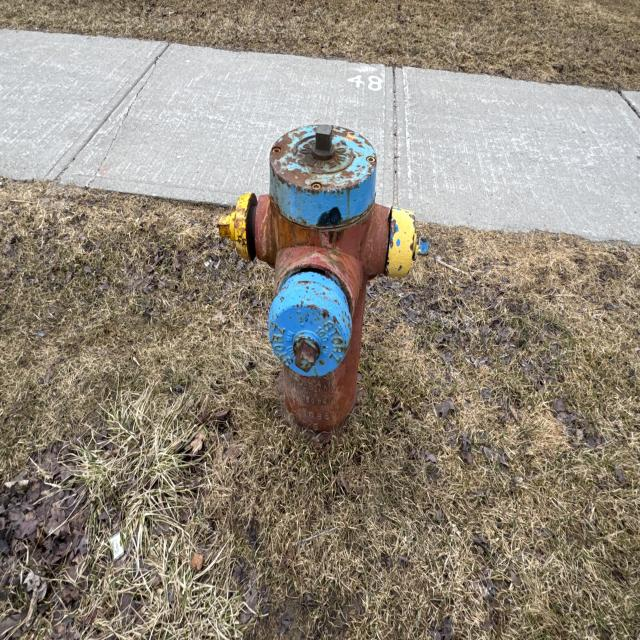Fire hydrant: (217, 122, 431, 452)
